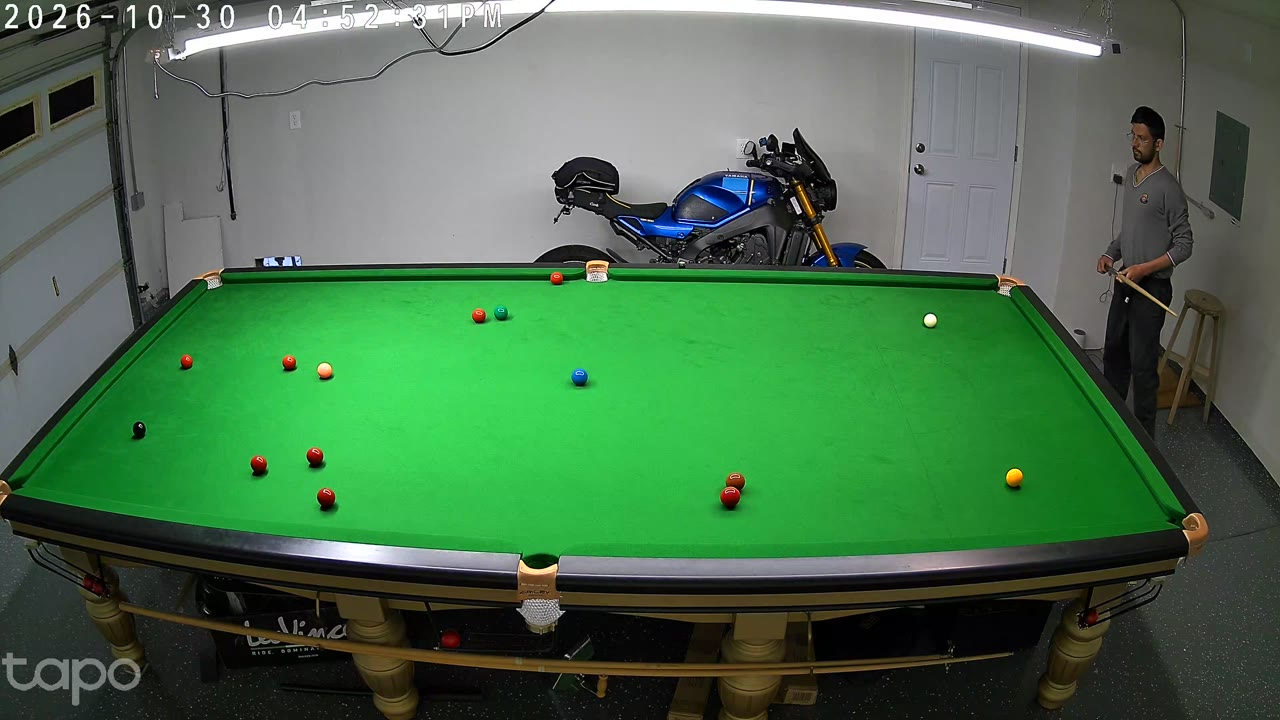black: (133, 419, 146, 441)
blue: (572, 367, 588, 388)
green: (494, 304, 507, 322)
pink: (318, 361, 332, 381)
red: (726, 471, 745, 499), (721, 484, 740, 511), (317, 486, 336, 512), (250, 453, 267, 477), (307, 445, 323, 469), (282, 354, 296, 373), (472, 307, 485, 326), (181, 353, 193, 371), (551, 271, 562, 287)
white: (924, 312, 937, 330)
yellow: (1006, 467, 1022, 489)
